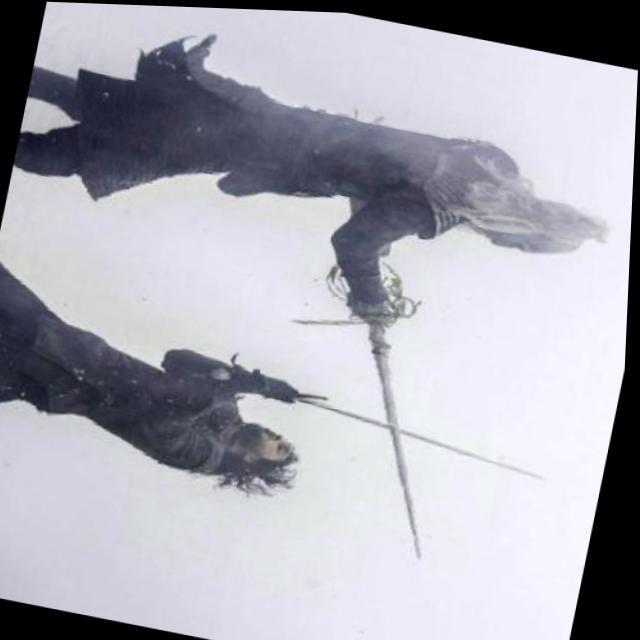weapon: (179, 340, 564, 500), (300, 296, 482, 563)
